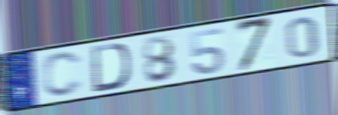0: (283, 15, 322, 60)
5: (187, 26, 226, 76)
7: (236, 15, 275, 75)
8: (141, 36, 178, 84)
C: (40, 50, 85, 99)
D: (90, 41, 133, 94)
